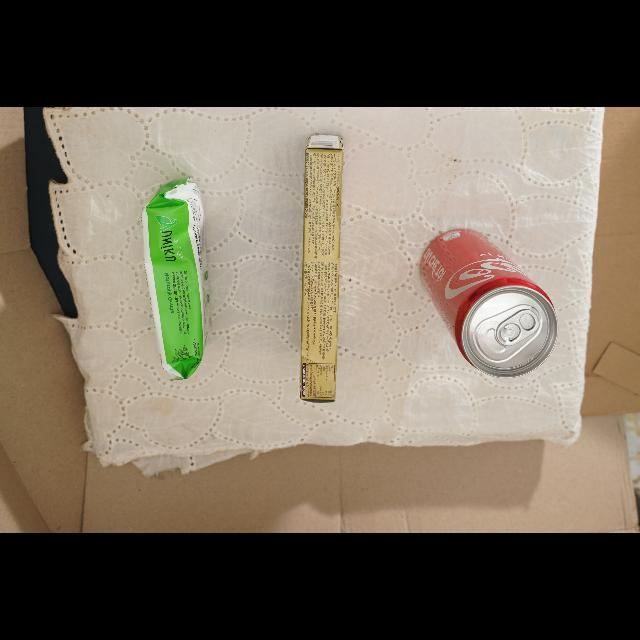banh_toppo_socola: (301, 135, 343, 403)
coca_cola: (420, 229, 557, 377)
khan_giay: (142, 177, 207, 379)
